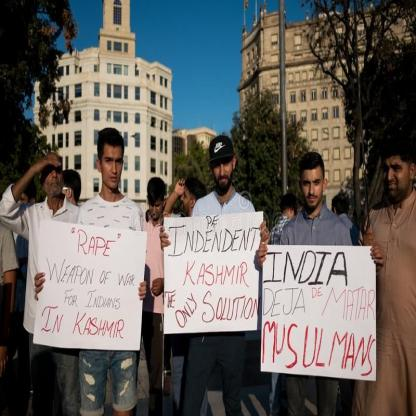BANNER: (163, 212, 376, 382), (261, 245, 377, 383), (33, 226, 147, 351)
